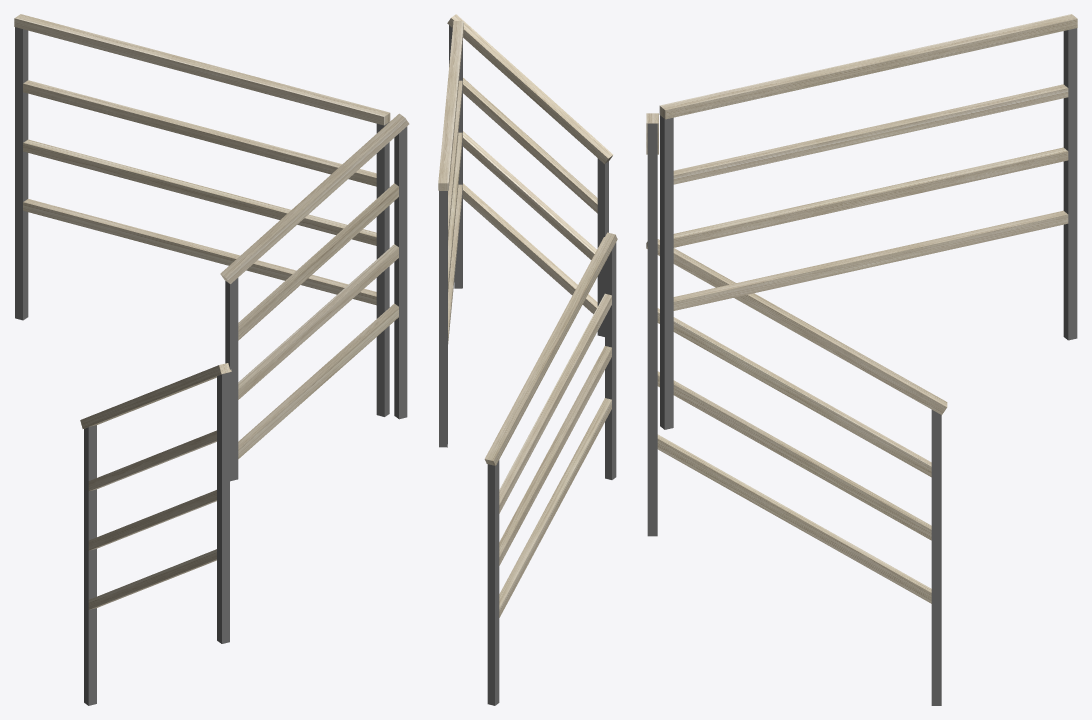
File: Stair_Railing.fbx
3 views of the same model, side by side, from view 1: azimuth 30°, elevation 25°; view 2: azimuth 150°, elevation 25°; view 3: azimuth 270°, elevation 25° (orthographic). The views are drawn at different scales.
Parts seen in each view (by area): view 1: Stair_Railing; view 2: Stair_Railing; view 3: Stair_Railing.
Boxes of the visible parts, bbox=[...] form: Stair_Railing: bbox=[14, 14, 409, 705]; Stair_Railing: bbox=[438, 14, 617, 705]; Stair_Railing: bbox=[646, 14, 1077, 705].
Size of the model in its own units: 0.9485 by 2.97 by 1.7.
